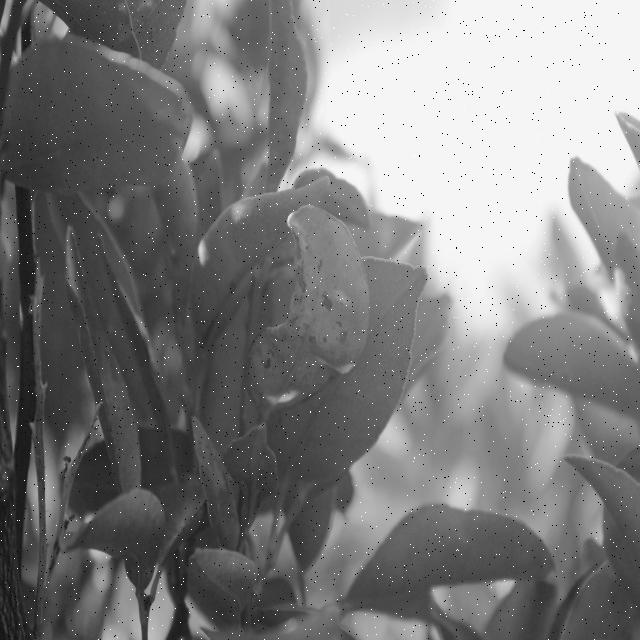melanose: (246, 195, 376, 422)
